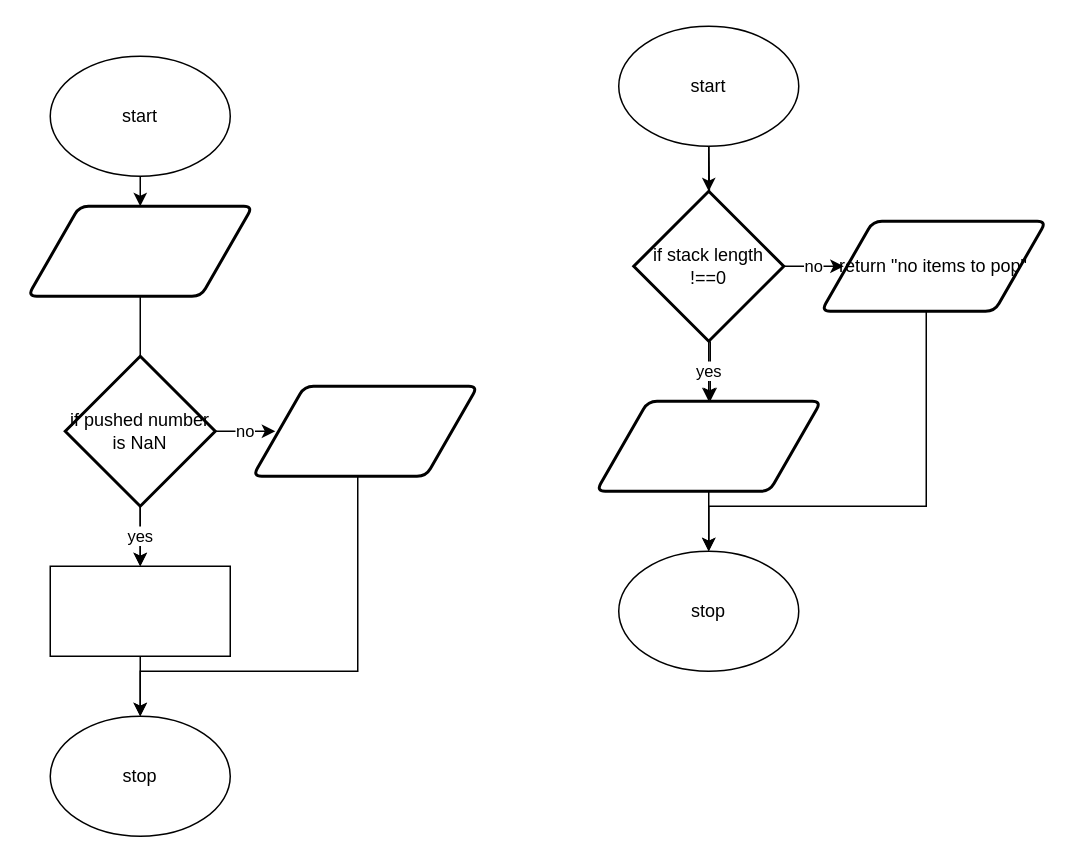
The diagram is 1073 pixels wide and 863 high, and some of its shapes have lost their labels. Here are the shapes that lost their labels. From the top down, the centre of each, then its label:
[140,250]: get pushedNumber
[364,430]: show not a number
[708,445]: return stack.pop()
[139,610]: this.stack.push(pushed number)
